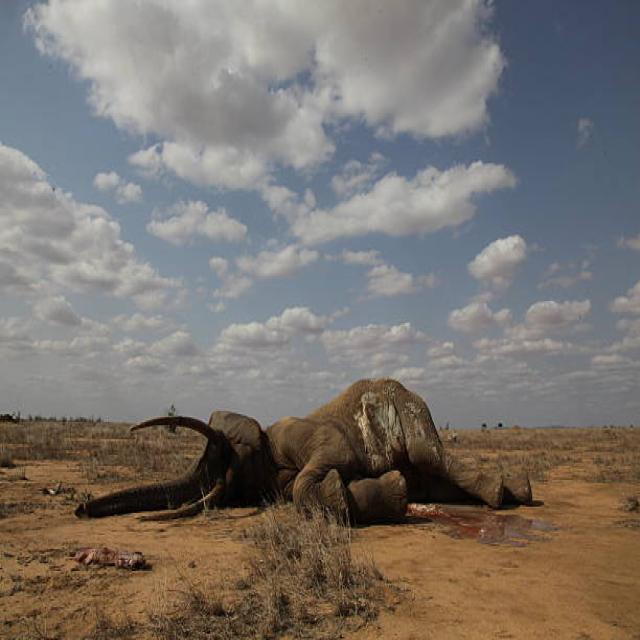Elephant: (80, 371, 548, 538)
